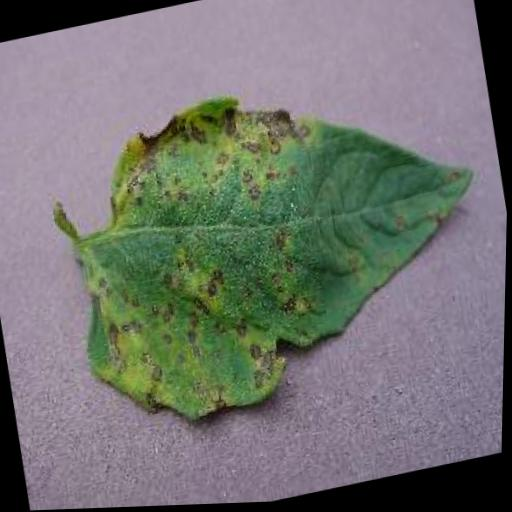Septoria: (45, 47, 511, 446)
